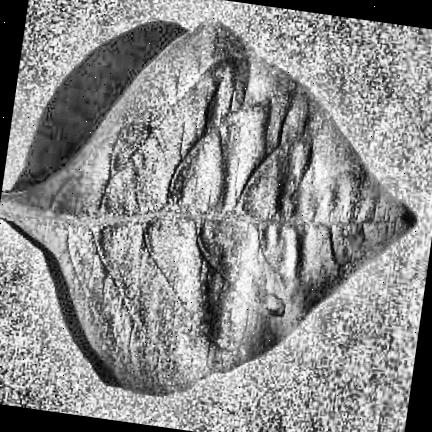leaf: (0, 20, 415, 393)
